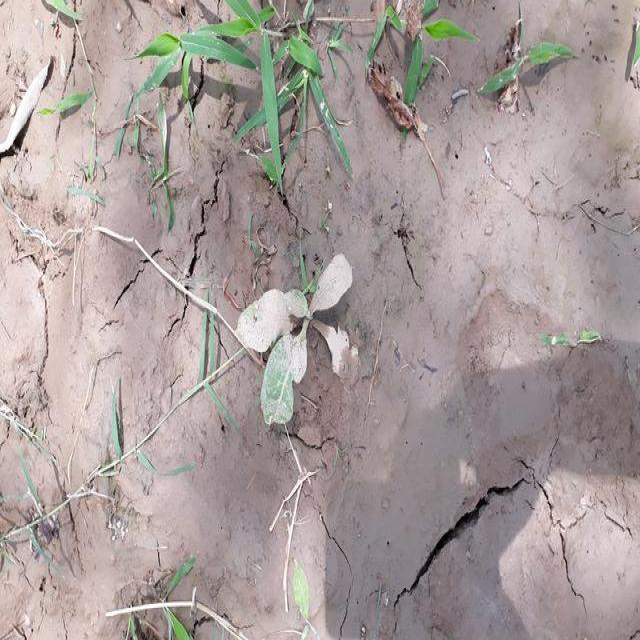crop: (238, 252, 355, 424)
